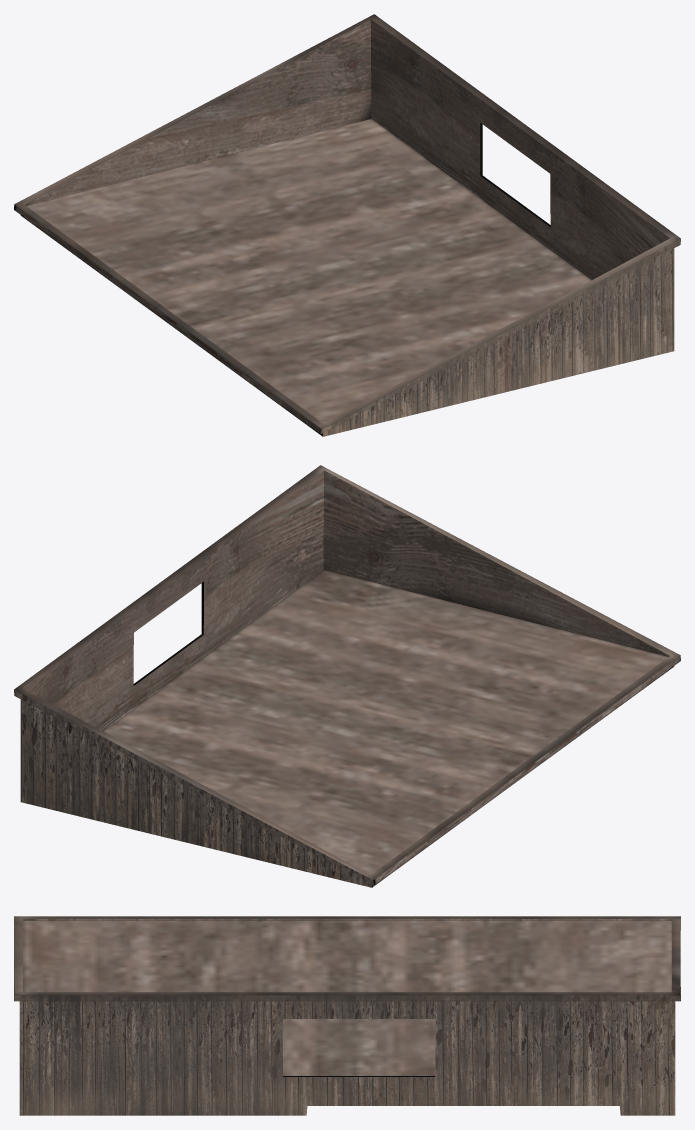
3 renders of one model, top to bottom at view 1: azimuth 30°, elevation 25°; view 2: azimuth 150°, elevation 25°; view 3: azimuth 270°, elevation 25°, orthographic. The views are drawn at different scales.
Parts seen in each view (by area): view 1: Object_38; view 2: Object_38; view 3: Object_38.
Part boxes in pixels (bbox=[...]): Object_38: bbox=[14, 14, 680, 436]; Object_38: bbox=[14, 465, 680, 887]; Object_38: bbox=[14, 916, 680, 1115].
Bounding box in the file's own units: 6.54 × 1.96 × 9.66.
1 material, 1 textured.
